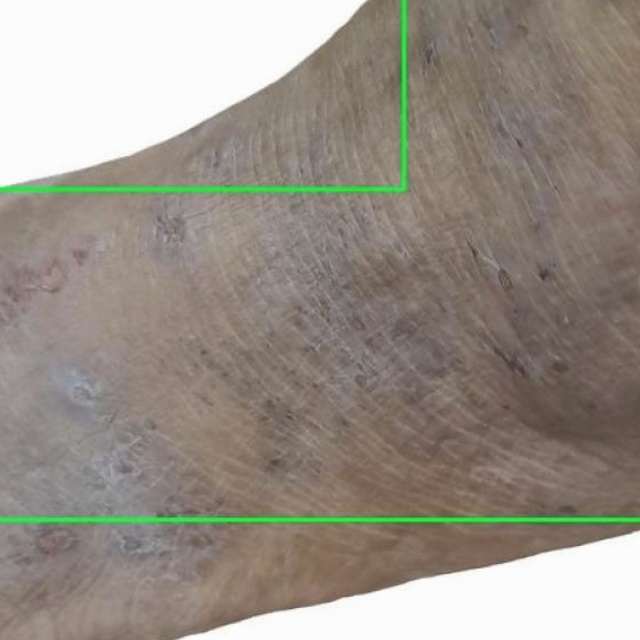Contact Dermatitis: (0, 0, 405, 190), (0, 519, 639, 639)
